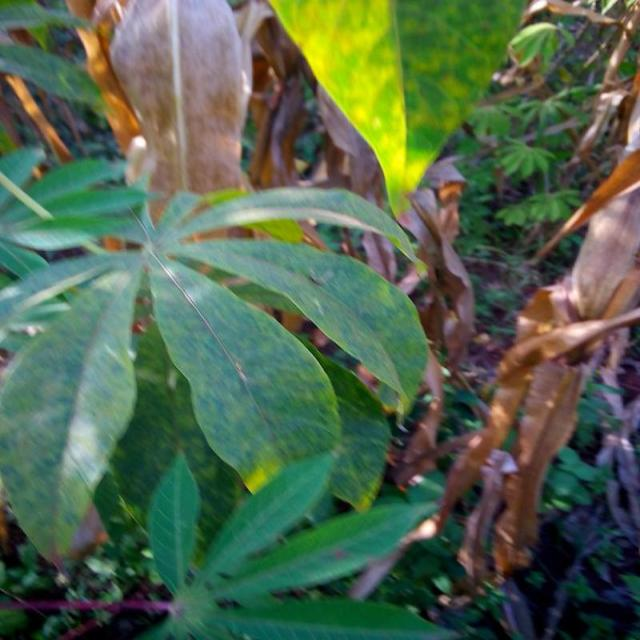cassava leaf: (267, 0, 530, 219), (149, 254, 344, 497), (1, 264, 142, 570)
